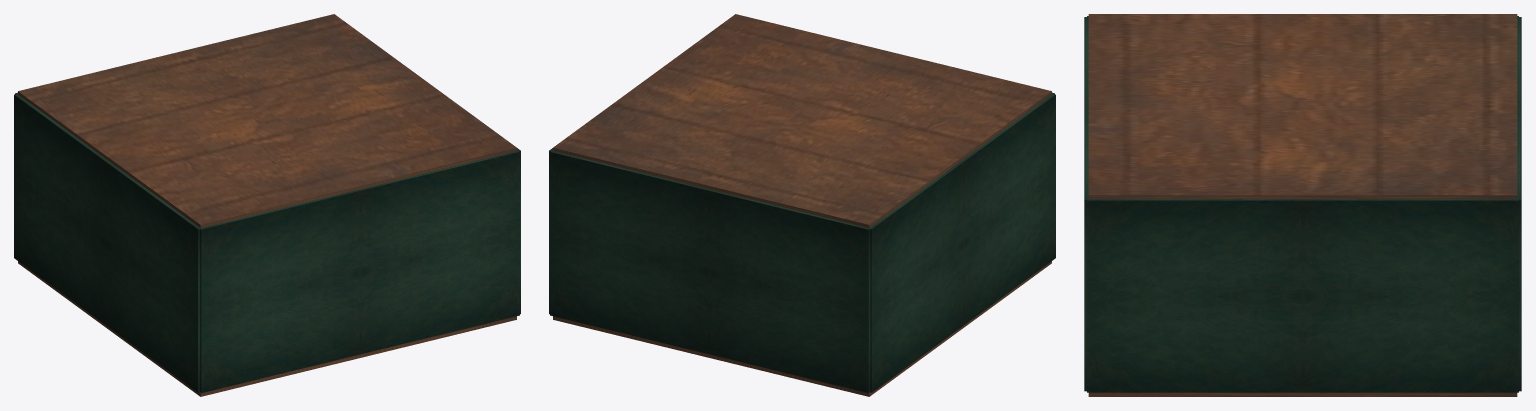
The model's file is Cabin.glb.
3 views of the same model, side by side, from view 1: azimuth 30°, elevation 25°; view 2: azimuth 150°, elevation 25°; view 3: azimuth 270°, elevation 25° (orthographic). The views are drawn at different scales.
Visible parts, largest first — view 1: room painted plaster, Painted boards, Carved walnut; view 2: room painted plaster, Painted boards, Carved walnut; view 3: room painted plaster, Painted boards, Carved walnut.
Boxes of the visible parts, bbox=[...] form: room painted plaster: bbox=[14, 92, 520, 393]; Painted boards: bbox=[18, 14, 516, 227]; Carved walnut: bbox=[18, 261, 516, 396]; room painted plaster: bbox=[549, 92, 1055, 393]; Painted boards: bbox=[553, 14, 1051, 227]; Carved walnut: bbox=[553, 261, 1051, 396]; room painted plaster: bbox=[1084, 16, 1521, 392]; Painted boards: bbox=[1088, 14, 1517, 198]; Carved walnut: bbox=[1088, 392, 1517, 396].
Size of the model in its own units: 11.52 by 5.87 by 11.52.
10 materials, 8 textured.
